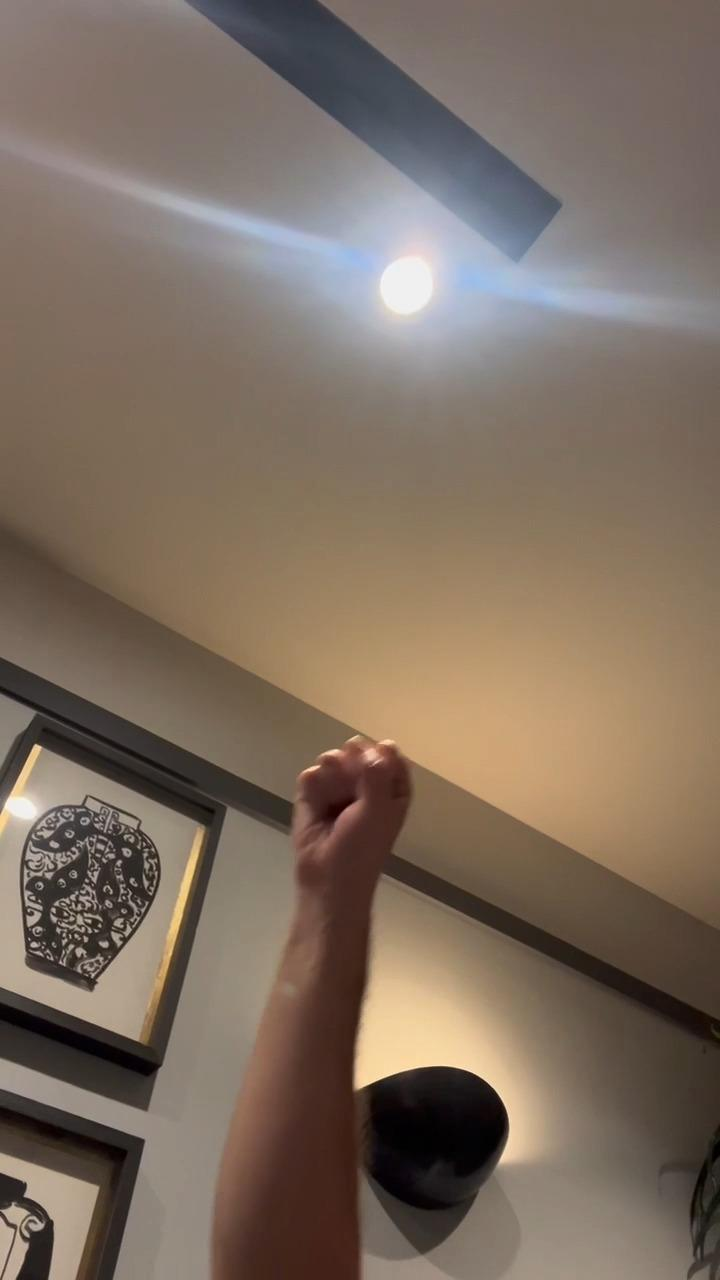Rock: (282, 734, 417, 879)
